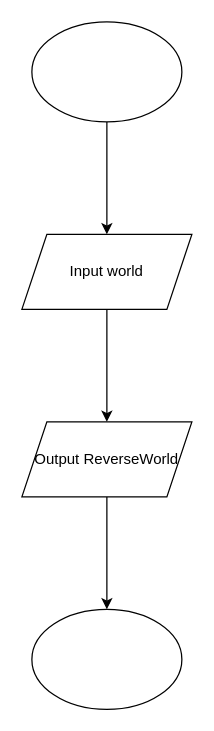
Some shapes in this 214 by 731 pixel diagram are drawn without their labels. The box of each missing label's shape, as (x1, y1, x2, y2) in pixels:
End: (31, 608, 182, 709)
Start: (31, 21, 182, 122)
